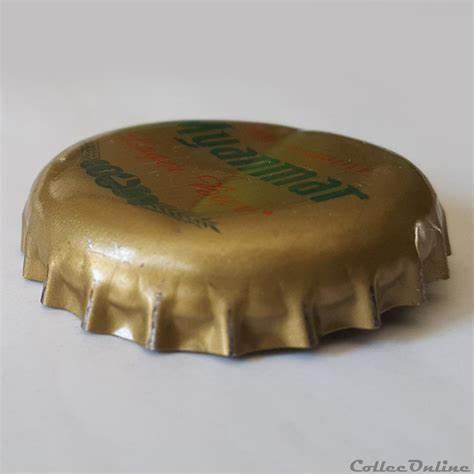metal: (22, 121, 452, 356)
